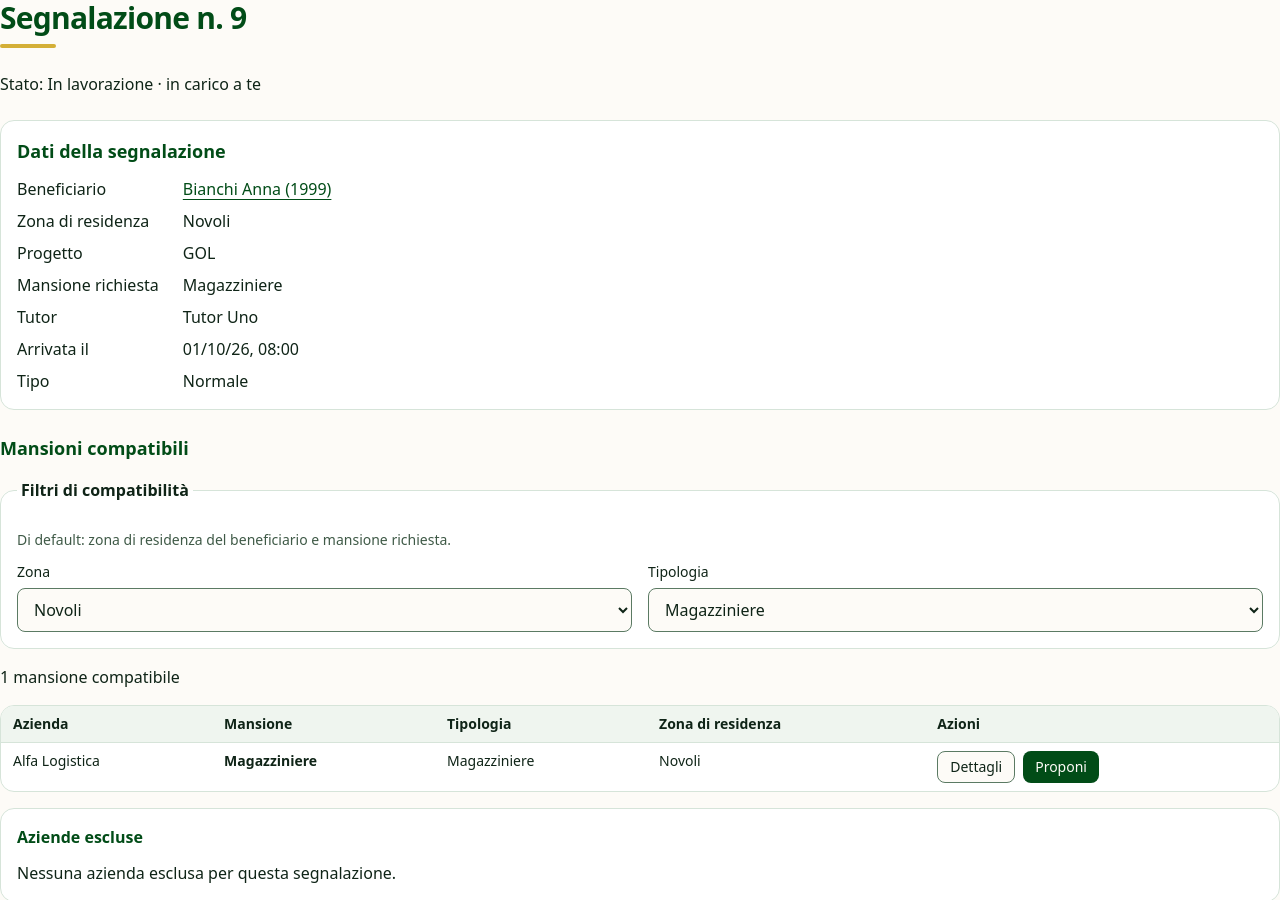
<TicketPage> › Dettagli: "Proponi" dal dialogo apre la stessa conferma
Click the button named "Dettagli Magazziniere presso Alfa Logistica" at [976, 767], box [937,751,1015,783]
(page scrolled)
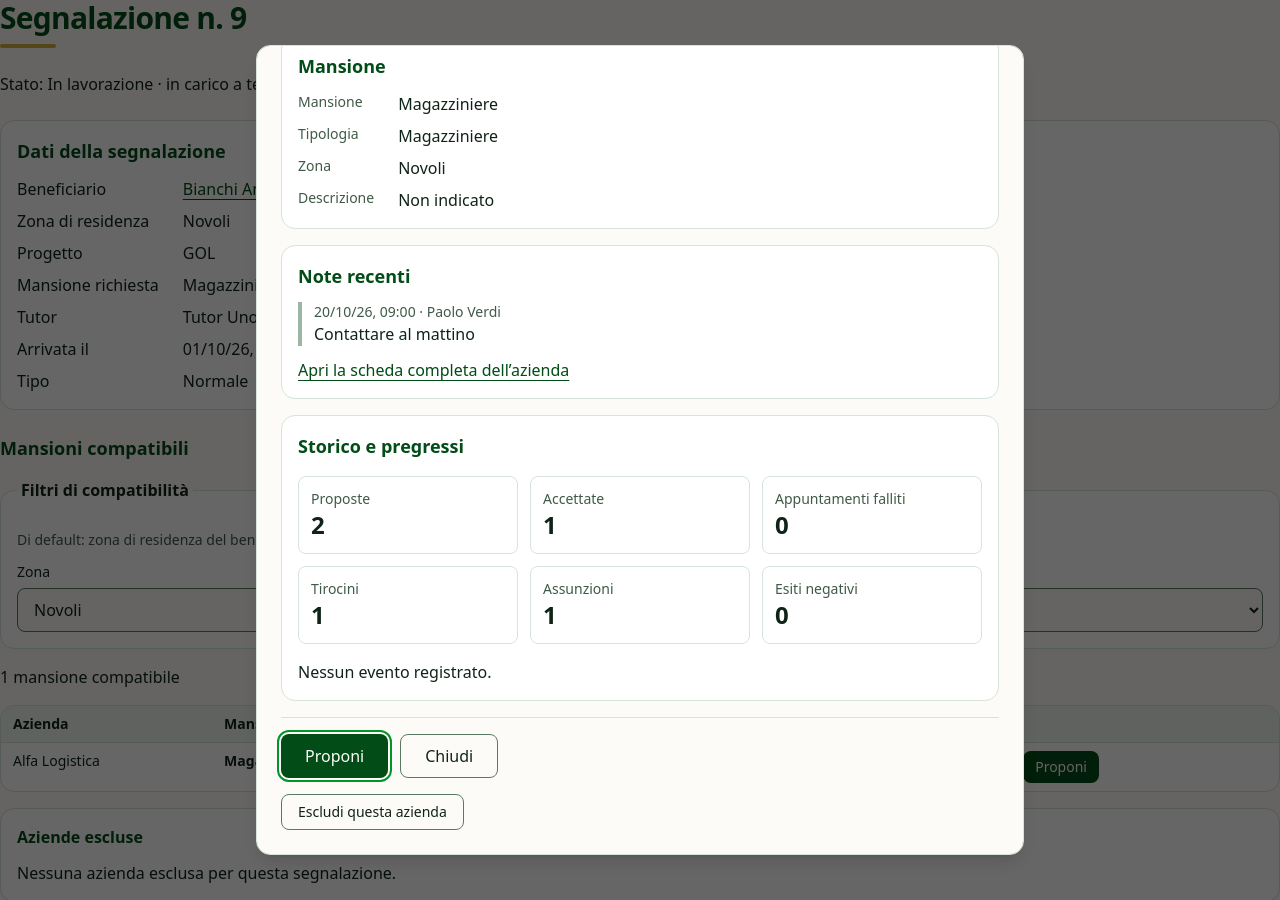
Click the button "Proponi" at [335, 756], box [281,734,388,778]
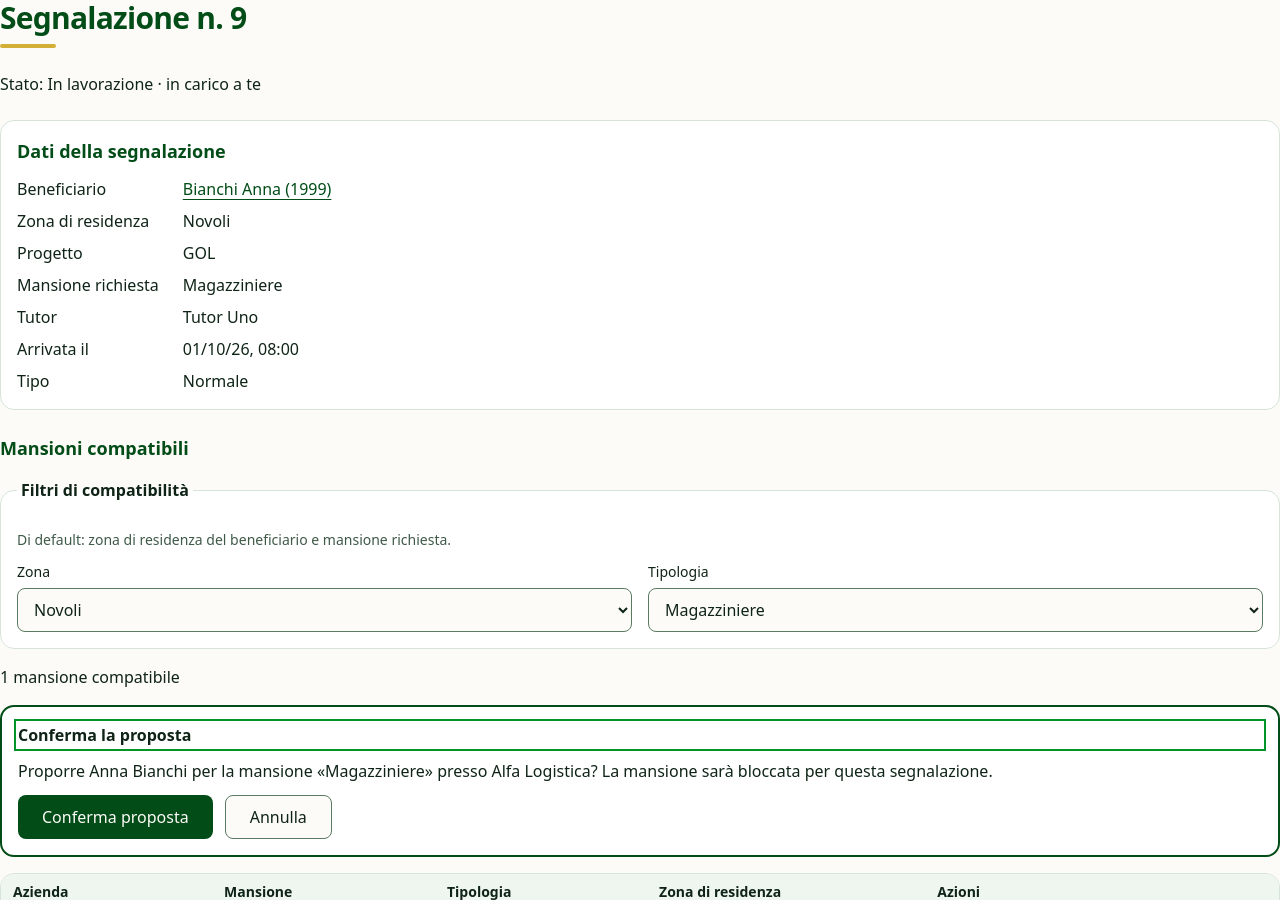
Expected: the dialog is gone
